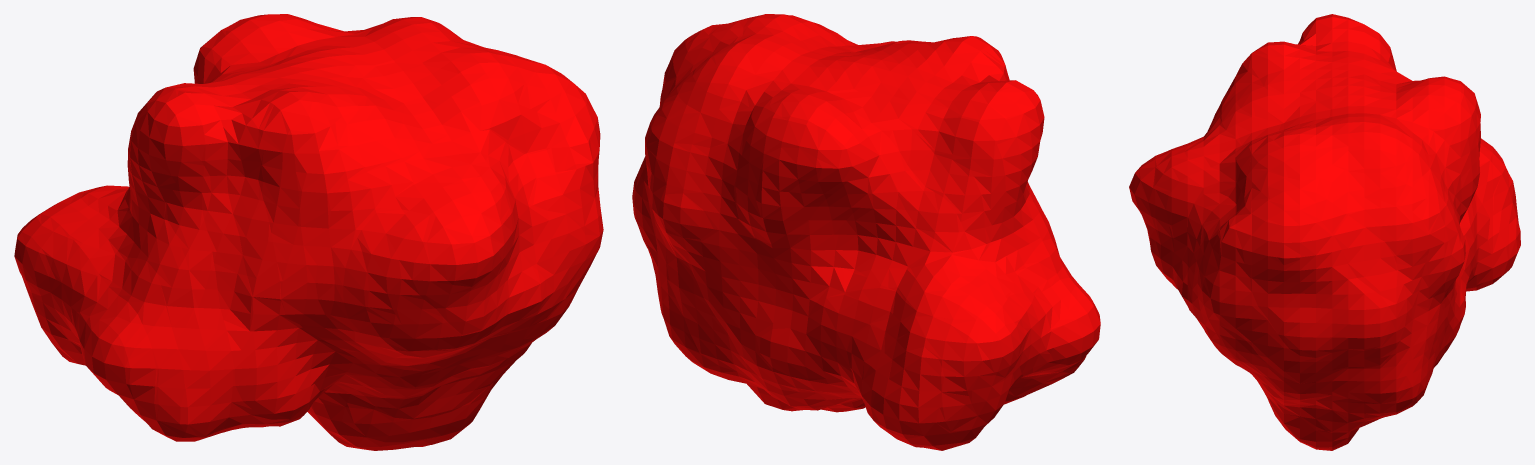
The model's file is Carboxypeptidase_E_coarse.dae.
3 views of the same model, side by side, from view 1: azimuth 30°, elevation 25°; view 2: azimuth 150°, elevation 25°; view 3: azimuth 270°, elevation 25° (orthographic). The views are drawn at different scales.
Visible parts, largest first — view 1: Carboxypeptidase_E; view 2: Carboxypeptidase_E; view 3: Carboxypeptidase_E.
Part boxes in pixels (x1=…): Carboxypeptidase_E: x1=14, y1=14, x2=603, y2=450; Carboxypeptidase_E: x1=632, y1=14, x2=1100, y2=450; Carboxypeptidase_E: x1=1129, y1=14, x2=1520, y2=450.
Size of the model in its own units: 67.19 by 55.11 by 57.86.
